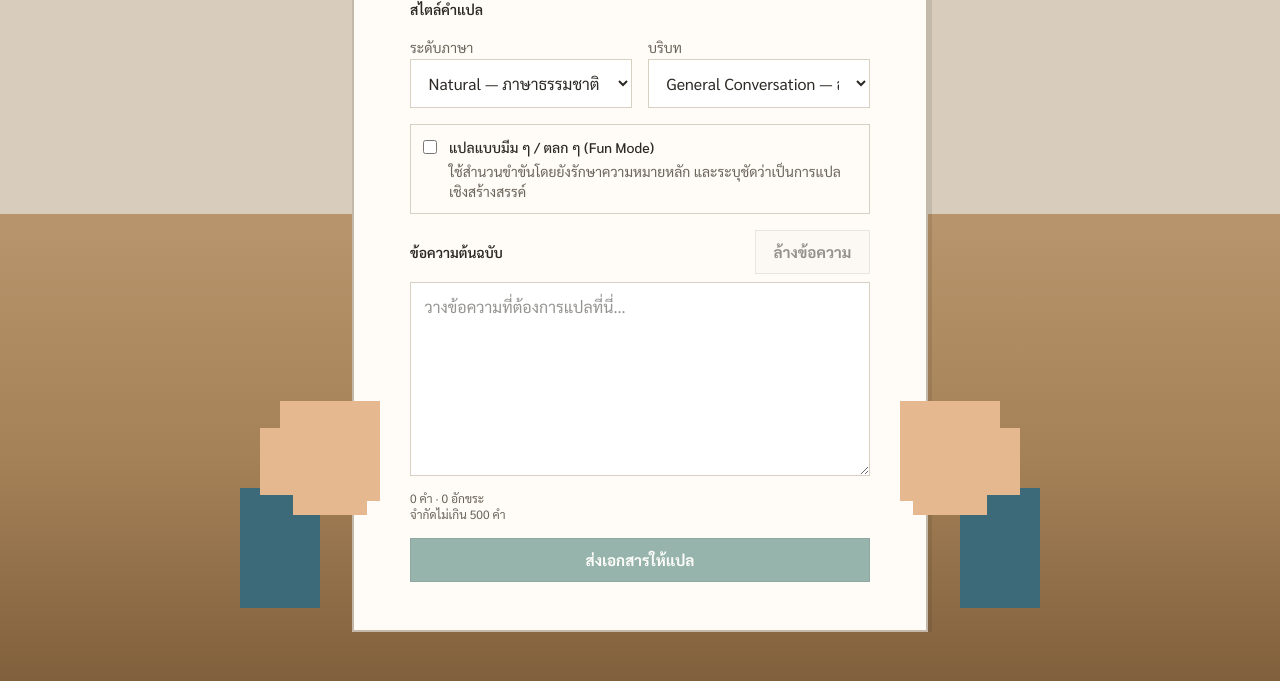
Scenario: TranslationWorkspace › shows API errors and allows retrying with the original text
(page scrolled)
Type "hello" into the text box labelled "ข้อความต้นฉบับ" at (640, 379), box [410,282,870,476]
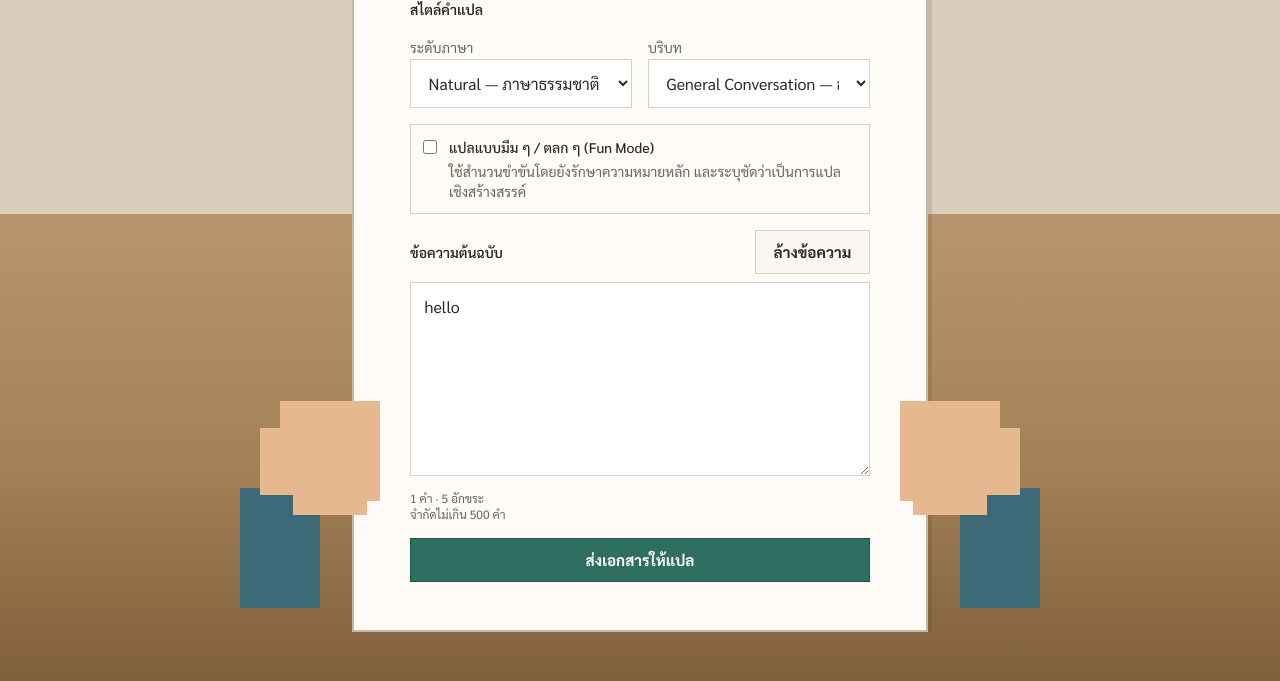
Click the button "ส่งเอกสารให้แปล" at (640, 560), box [410,538,870,582]
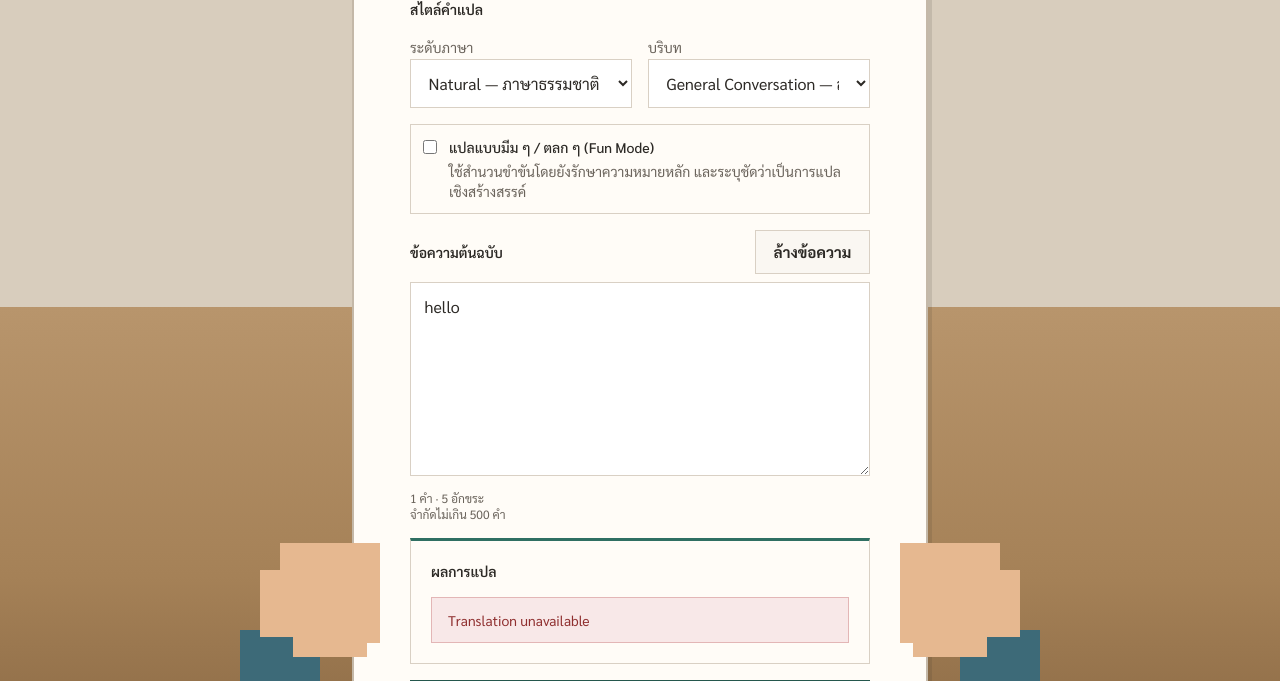
Expected: the message reads "Translation unavailable", [448,611,590,629]
